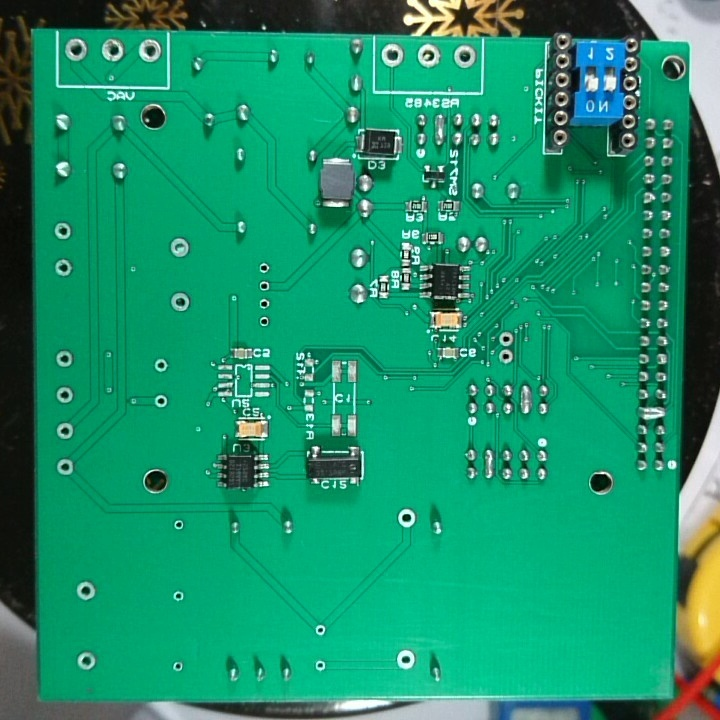F: (414, 41, 443, 71), (61, 35, 90, 65), (379, 42, 408, 71), (136, 38, 161, 68), (453, 43, 478, 72), (99, 39, 124, 67), (396, 504, 421, 532), (166, 235, 192, 261), (166, 291, 193, 315), (75, 649, 101, 673), (394, 646, 418, 672), (53, 346, 79, 369), (51, 255, 74, 280), (53, 455, 75, 480), (73, 579, 99, 600), (51, 219, 74, 242), (53, 383, 76, 406), (54, 418, 75, 443), (170, 515, 188, 538), (152, 355, 170, 376), (153, 391, 171, 412), (255, 293, 274, 312), (497, 329, 516, 348), (170, 588, 187, 609), (497, 349, 516, 367), (171, 656, 186, 678), (256, 259, 273, 278), (256, 276, 273, 294), (313, 620, 328, 640), (313, 657, 328, 675), (256, 312, 273, 326)
P: (637, 403, 668, 422), (518, 381, 533, 416), (432, 112, 446, 149), (482, 447, 496, 481)
